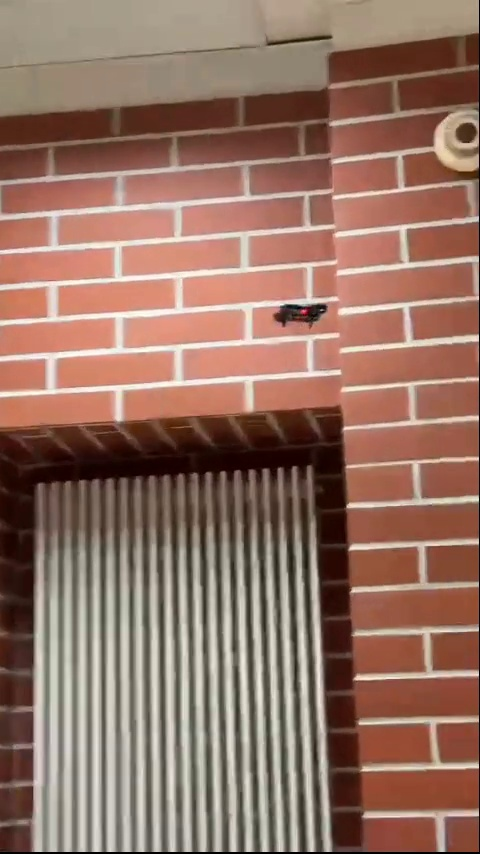drone: (274, 299, 324, 333)
